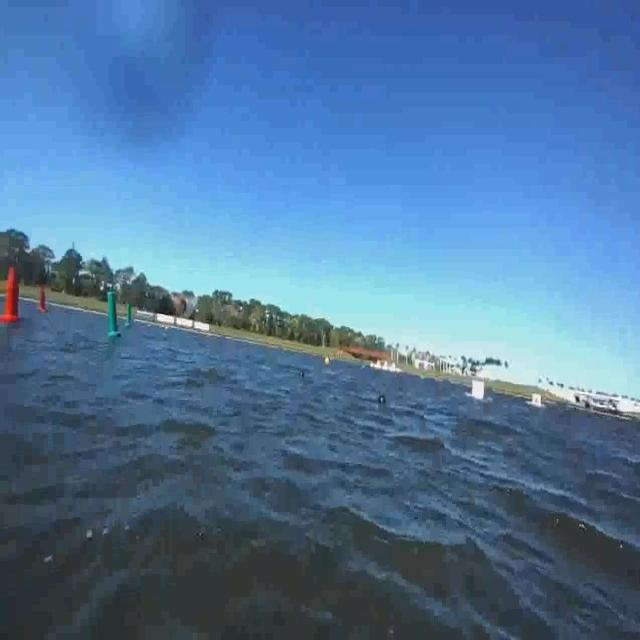black-buoy: (379, 394, 386, 404), (300, 369, 306, 379)
green-column-buoy: (106, 291, 120, 338), (127, 303, 134, 328)
red-column-buoy: (1, 264, 22, 323), (35, 282, 46, 313)
yellow-buoy: (327, 356, 333, 368)
